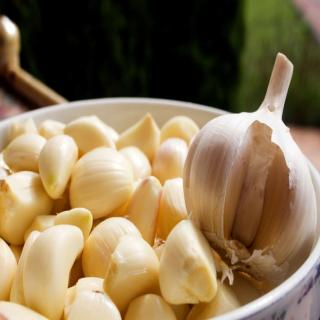Bawang Putih: (158, 215, 220, 310)
